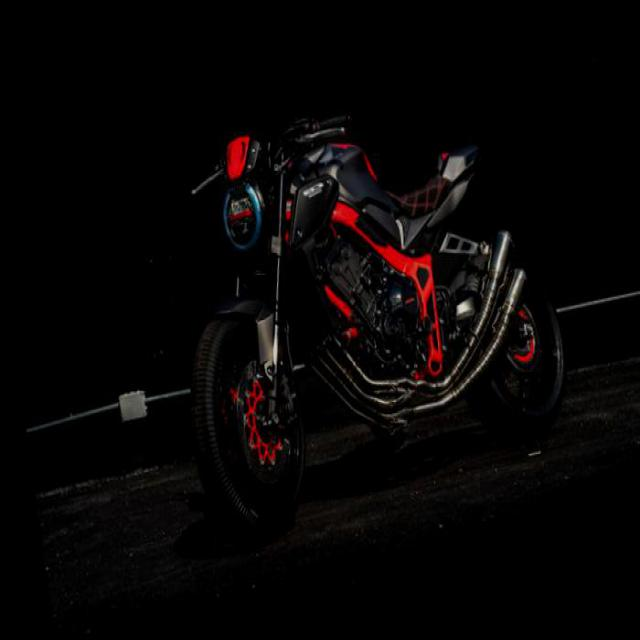CB650R: (145, 61, 580, 554)
